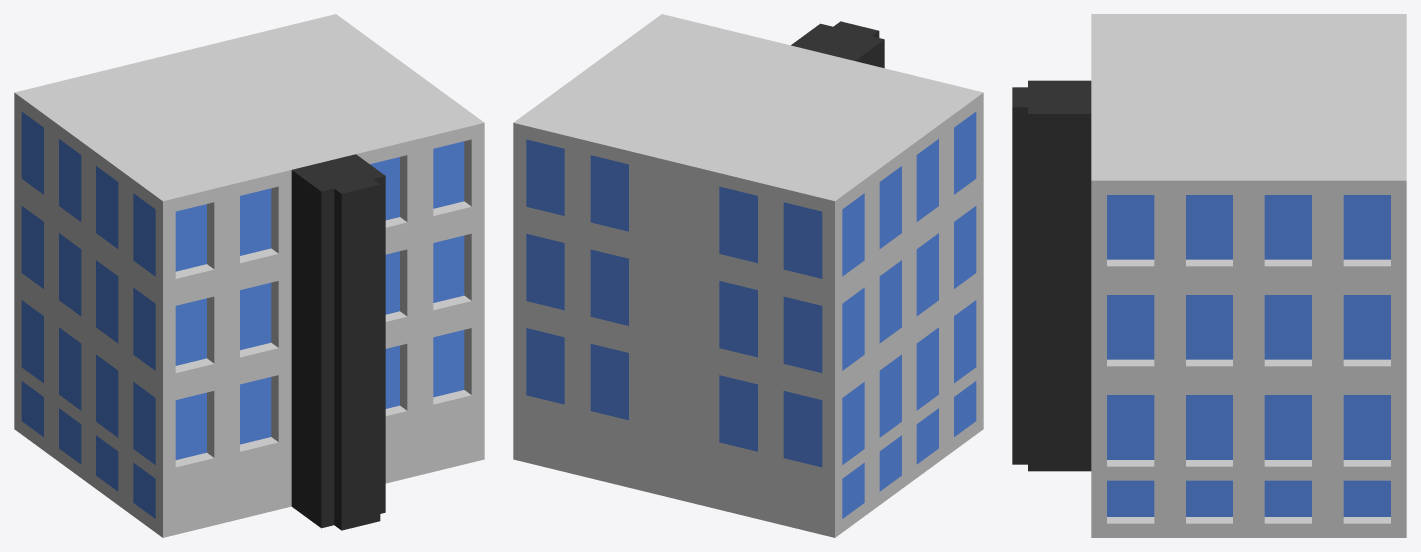
Rendered from twentythModel.fbx.
3 renders of one model, left to right at view 1: azimuth 30°, elevation 25°; view 2: azimuth 150°, elevation 25°; view 3: azimuth 270°, elevation 25°, orthographic. The views are drawn at different scales.
Parts seen in each view (by area): view 1: Box; view 2: Box; view 3: Box.
Part boxes in pixels (x1,y1,x2,y2): Box: [14, 14, 484, 537]; Box: [513, 14, 983, 537]; Box: [1012, 14, 1406, 537].
Size of the model in its own units: 25 by 25 by 25.
1 material, 1 textured.
